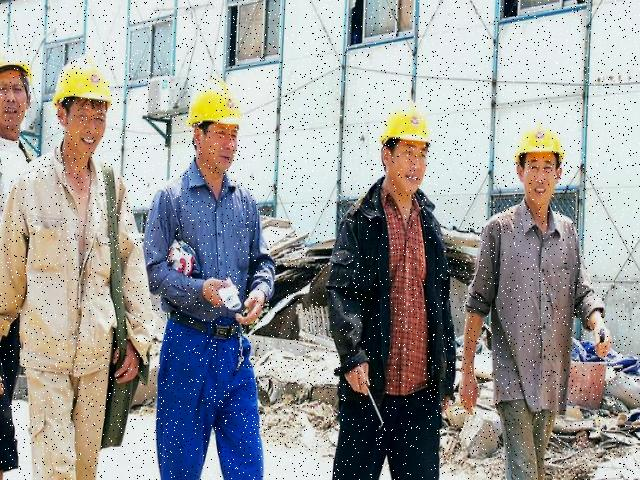Helmet: (48, 49, 114, 113), (182, 71, 244, 135), (374, 93, 434, 151), (508, 115, 567, 167), (0, 42, 32, 86)
